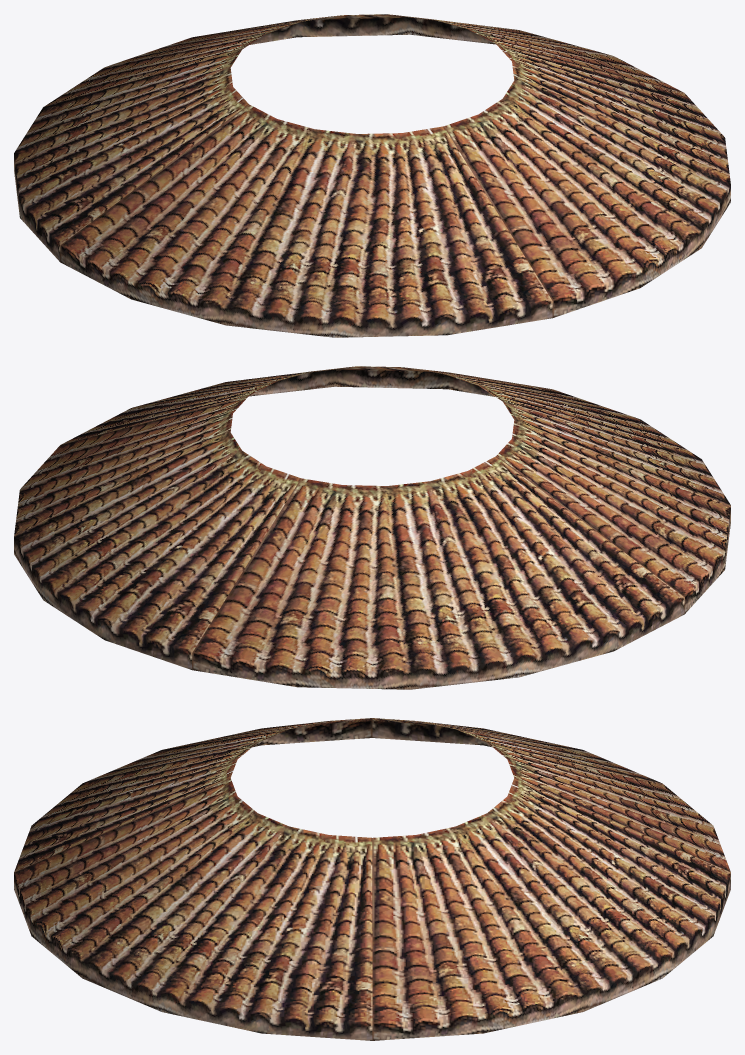
Rendered from athen_cc_round_roof.dae.
The picture shows the model from 3 angles, top to bottom: view 1: azimuth 30°, elevation 25°; view 2: azimuth 150°, elevation 25°; view 3: azimuth 270°, elevation 25°; orthographic projection.
Parts seen in each view (by area): view 1: athen_cc_001; view 2: athen_cc_001; view 3: athen_cc_001.
Part boxes in pixels (x1=…): athen_cc_001: x1=14, y1=14, x2=730, y2=337; athen_cc_001: x1=14, y1=366, x2=730, y2=689; athen_cc_001: x1=14, y1=718, x2=730, y2=1040.
Bounding box in the file's own units: 9.66 × 9.66 × 1.66.
